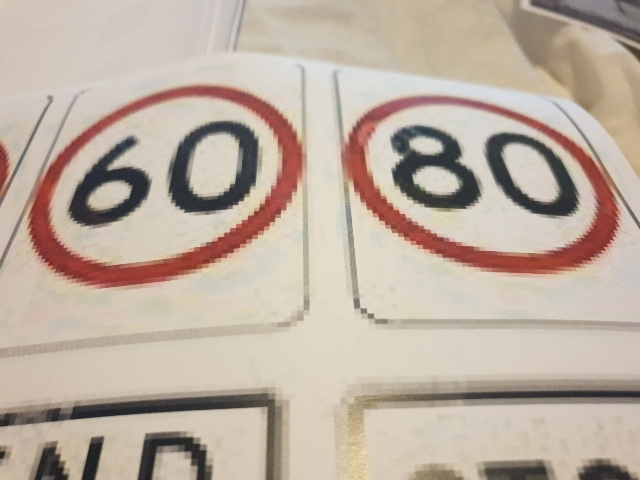sp60: (54, 105, 299, 276)
sp80: (345, 85, 623, 275)
